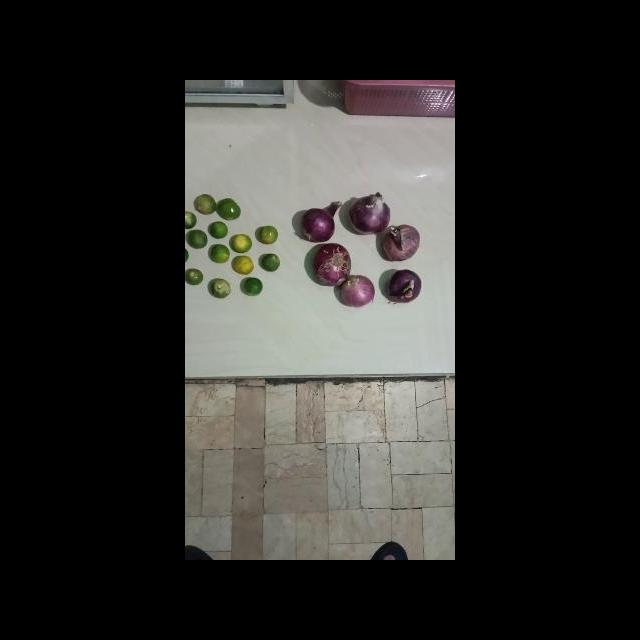onion: (349, 193, 392, 234), (313, 242, 350, 288), (304, 200, 343, 242), (381, 224, 420, 262), (341, 274, 376, 308), (388, 270, 423, 303)
